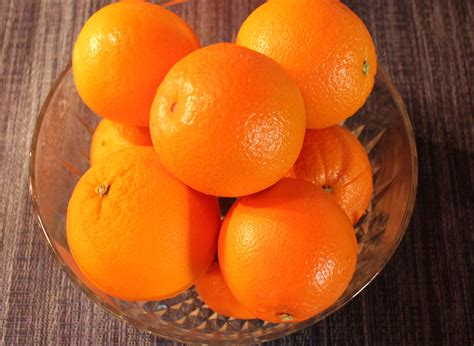orange: (61, 146, 220, 303), (149, 41, 308, 197), (219, 177, 364, 327), (230, 1, 380, 132), (69, 1, 202, 128)
